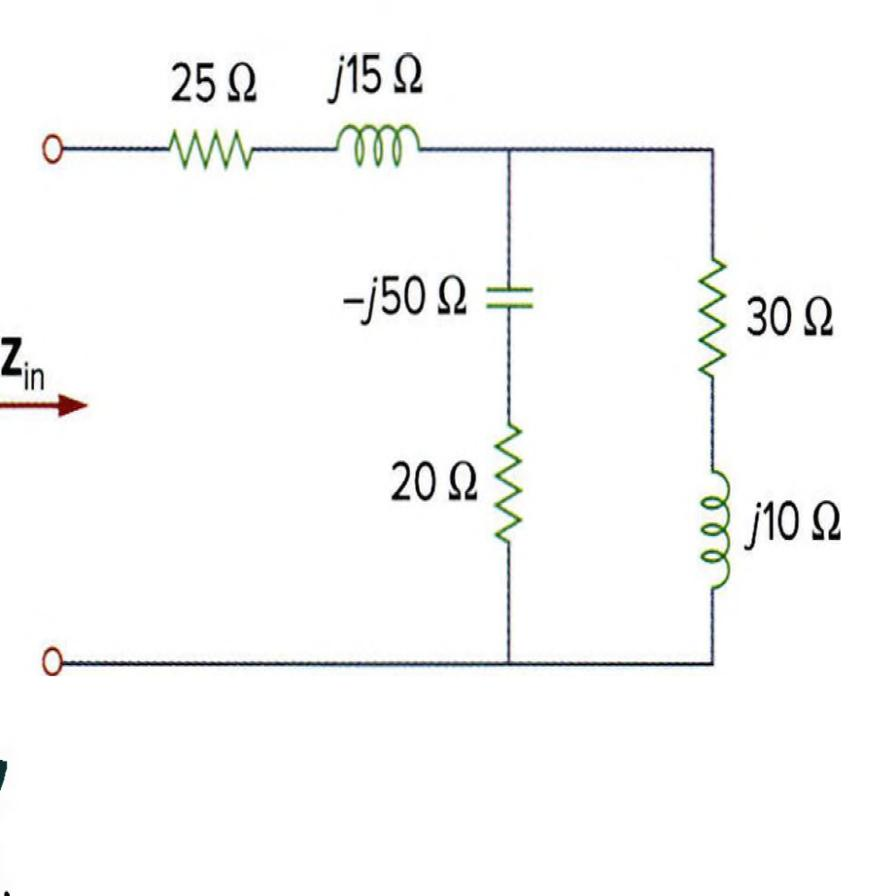C2: (479, 240, 546, 356)
L1: (317, 113, 440, 191)
L2: (686, 456, 744, 602)
